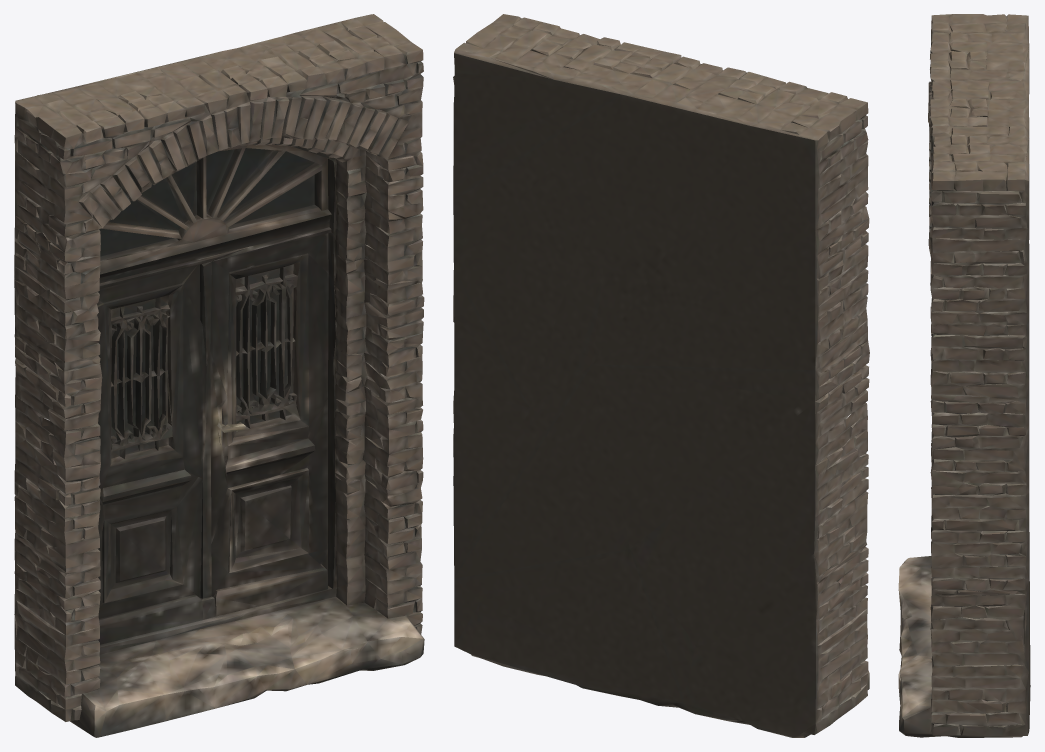
File: familok_street_door__dark.glb
The picture shows the model from 3 angles, left to right: view 1: azimuth 30°, elevation 25°; view 2: azimuth 150°, elevation 25°; view 3: azimuth 270°, elevation 25°; orthographic projection. The views are drawn at different scales.
Visible parts, largest first — view 1: main; view 2: main; view 3: main.
Part boxes in pixels (<box>): main: <box>14,14,424,737</box>; main: <box>453,14,869,737</box>; main: <box>898,14,1030,737</box>.
Size of the model in its own units: 1.64 by 2.6 by 0.5474.
1 material, 1 textured.
